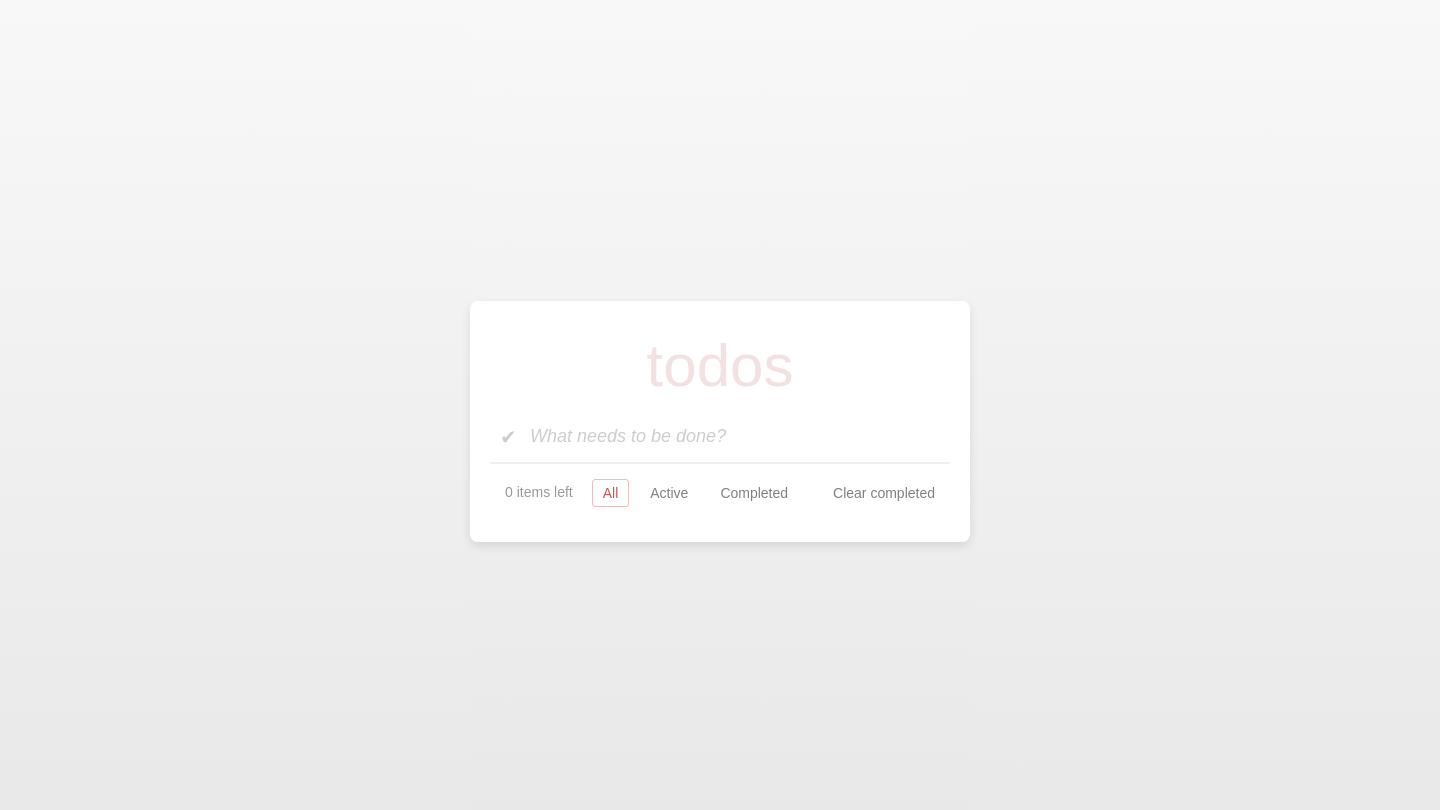
Test case: Тестирование списка дел (Todo App) › добавляет новую задачу в список
Type "Новая задача" into the field with placeholder "What needs to be done?".
click(720, 436); type("Новая задача")  # box left=490, top=410, right=950, bottom=462
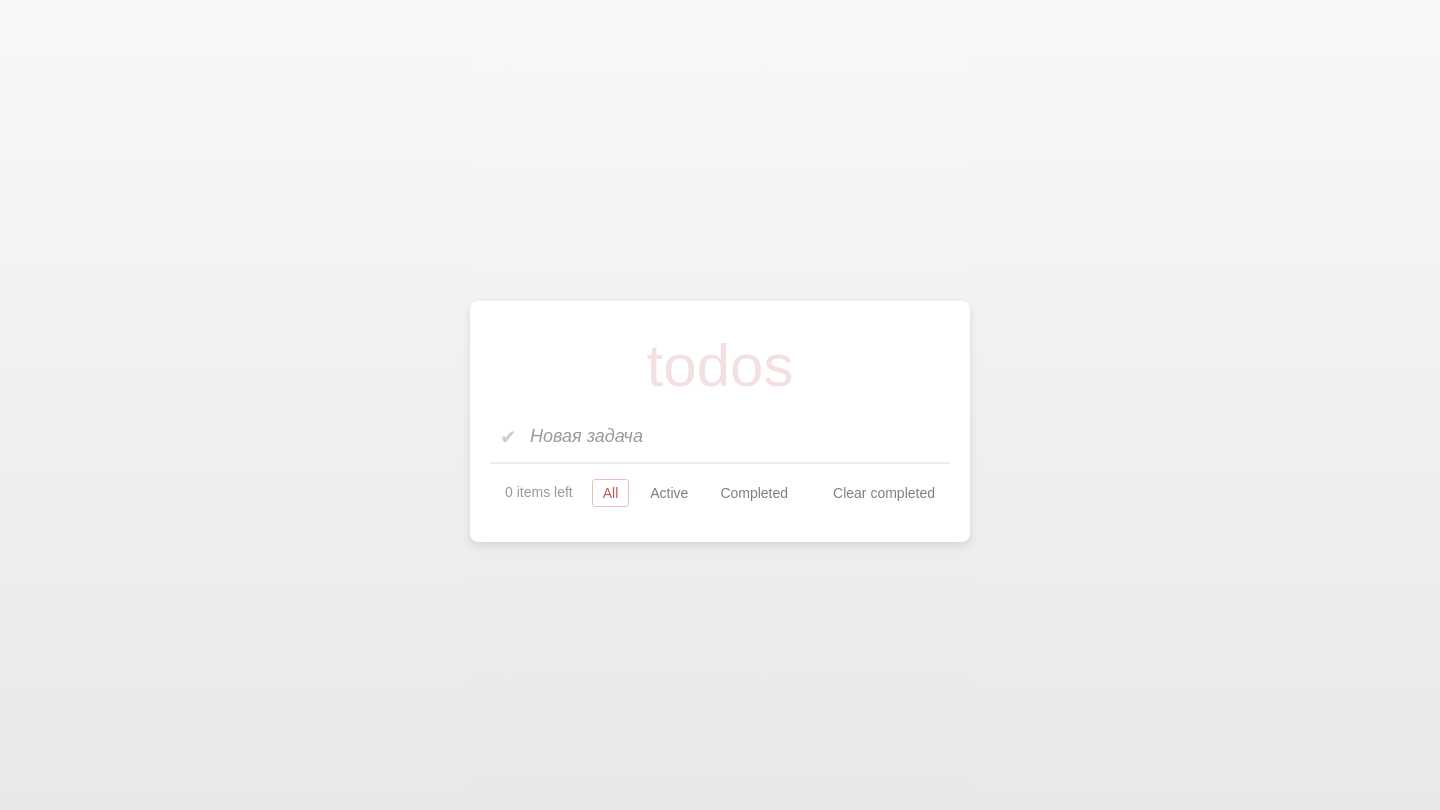
Press Enter in the field with placeholder "What needs to be done?", box left=490, top=410, right=950, bottom=462
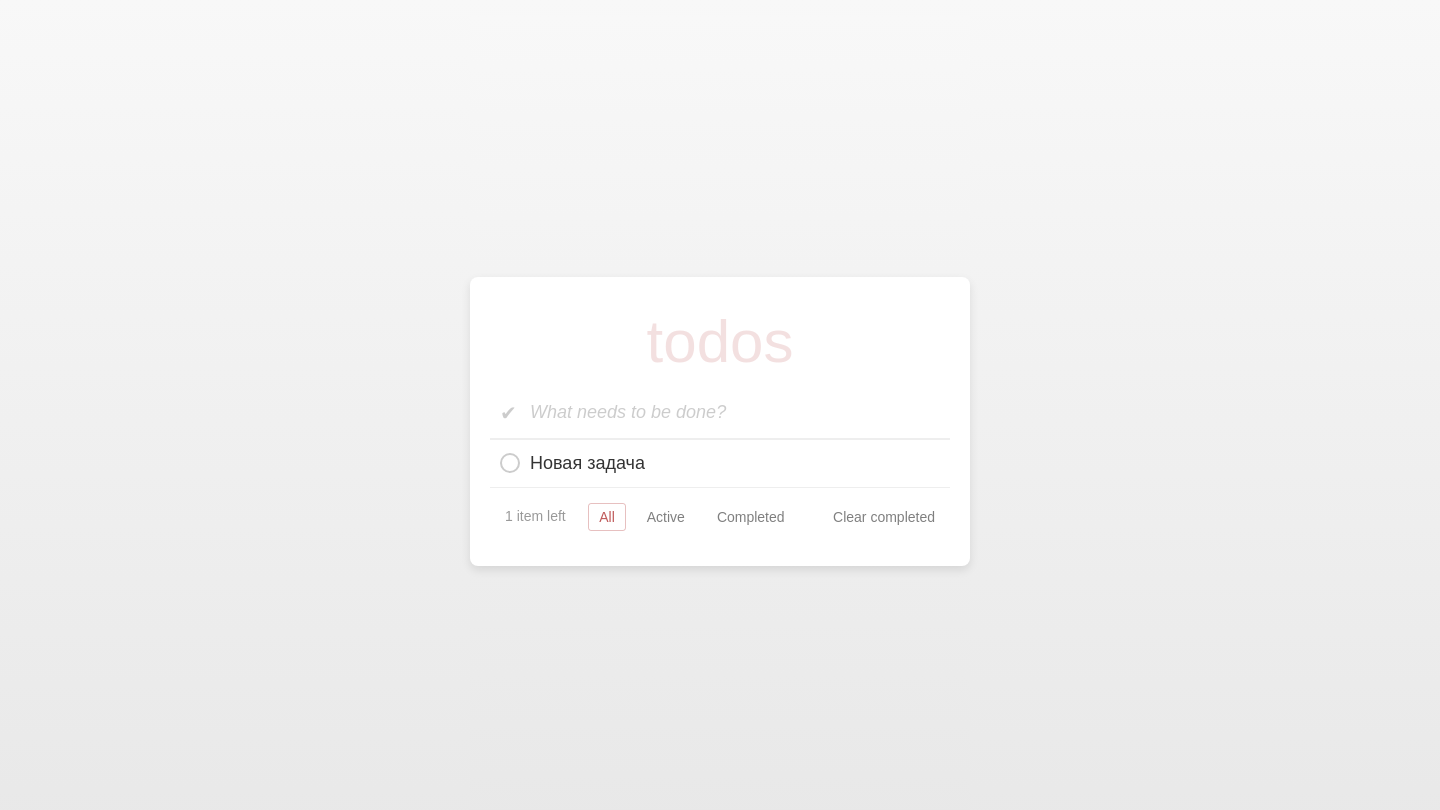
Check: the text "Новая задача" is shown, box left=530, top=450, right=645, bottom=476
